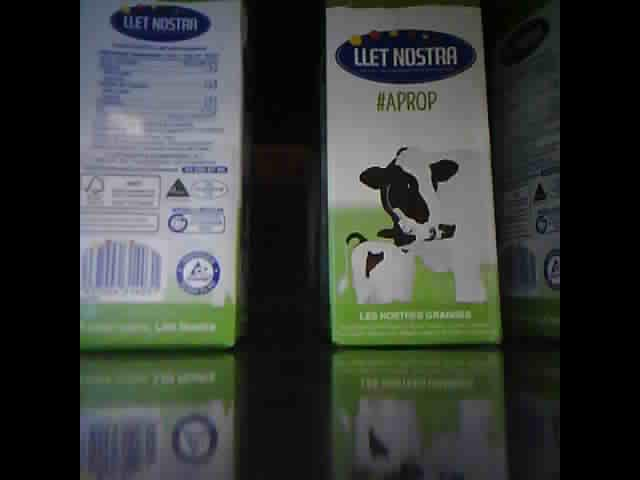leche: (80, 4, 247, 350), (330, 7, 494, 346), (499, 4, 558, 337)
